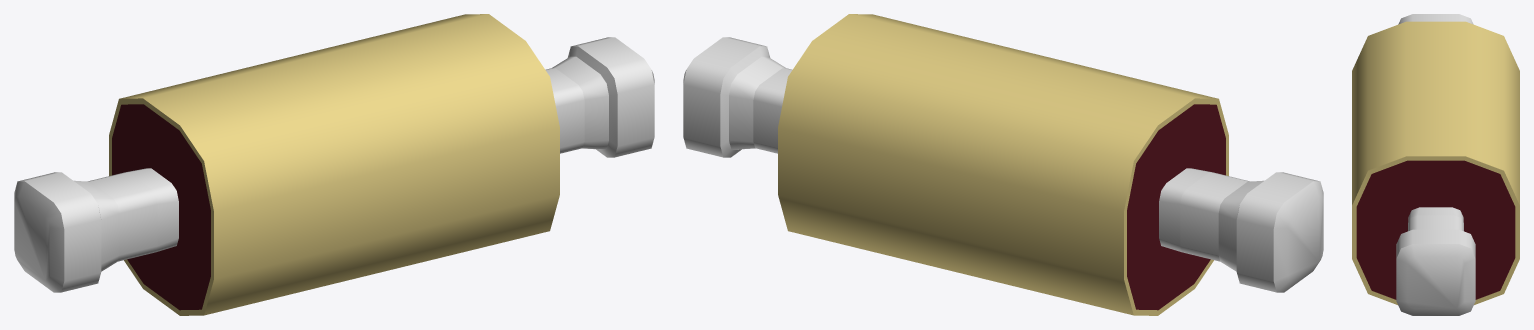
The model's file is thighmeat.fbx.
The picture shows the model from 3 angles, left to right: view 1: azimuth 30°, elevation 25°; view 2: azimuth 150°, elevation 25°; view 3: azimuth 270°, elevation 25°; orthographic projection. The views are drawn at different scales.
Parts seen in each view (by area): view 1: Cube; view 2: Cube; view 3: Cube.
Boxes of the visible parts, <box> form: Cube: <box>14,14,654,315</box>; Cube: <box>683,14,1323,315</box>; Cube: <box>1352,14,1519,315</box>.
Bounding box in the file's own units: 664 × 200 × 200.
